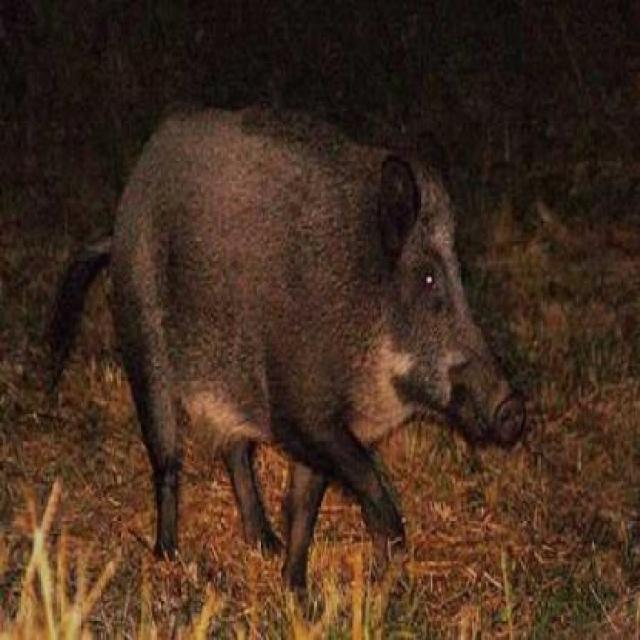pig: (114, 69, 530, 563)
